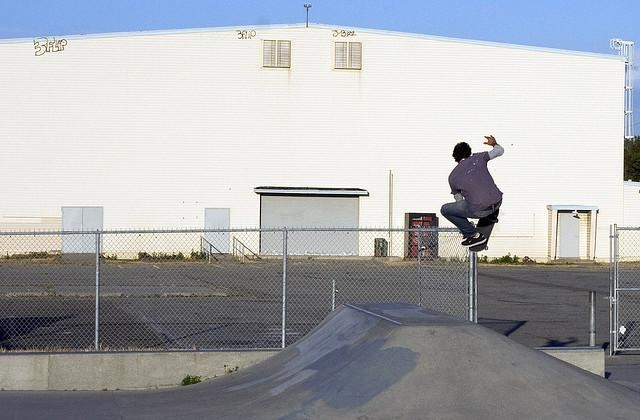person: (439, 134, 507, 255)
